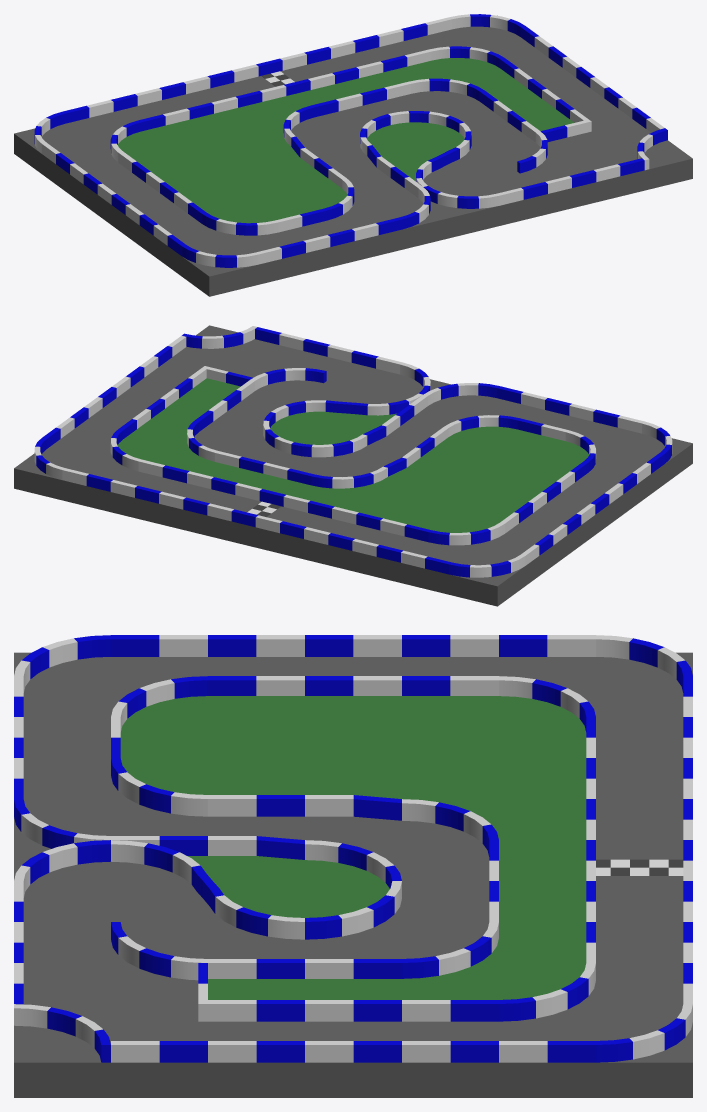
Rendered from Ground11.fbx.
3 views of the same model, one above another, from view 1: azimuth 30°, elevation 25°; view 2: azimuth 150°, elevation 25°; view 3: azimuth 270°, elevation 25° (orthographic). The views are drawn at different scales.
Parts seen in each view (by area): view 1: pCube405; view 2: pCube405; view 3: pCube405.
Boxes of the visible parts, box(x1,y1,x2,y2) form: pCube405: box(14, 14, 692, 296); pCube405: box(14, 325, 692, 606); pCube405: box(14, 635, 692, 1097).
Size of the model in its own units: 500 by 30 by 350.
